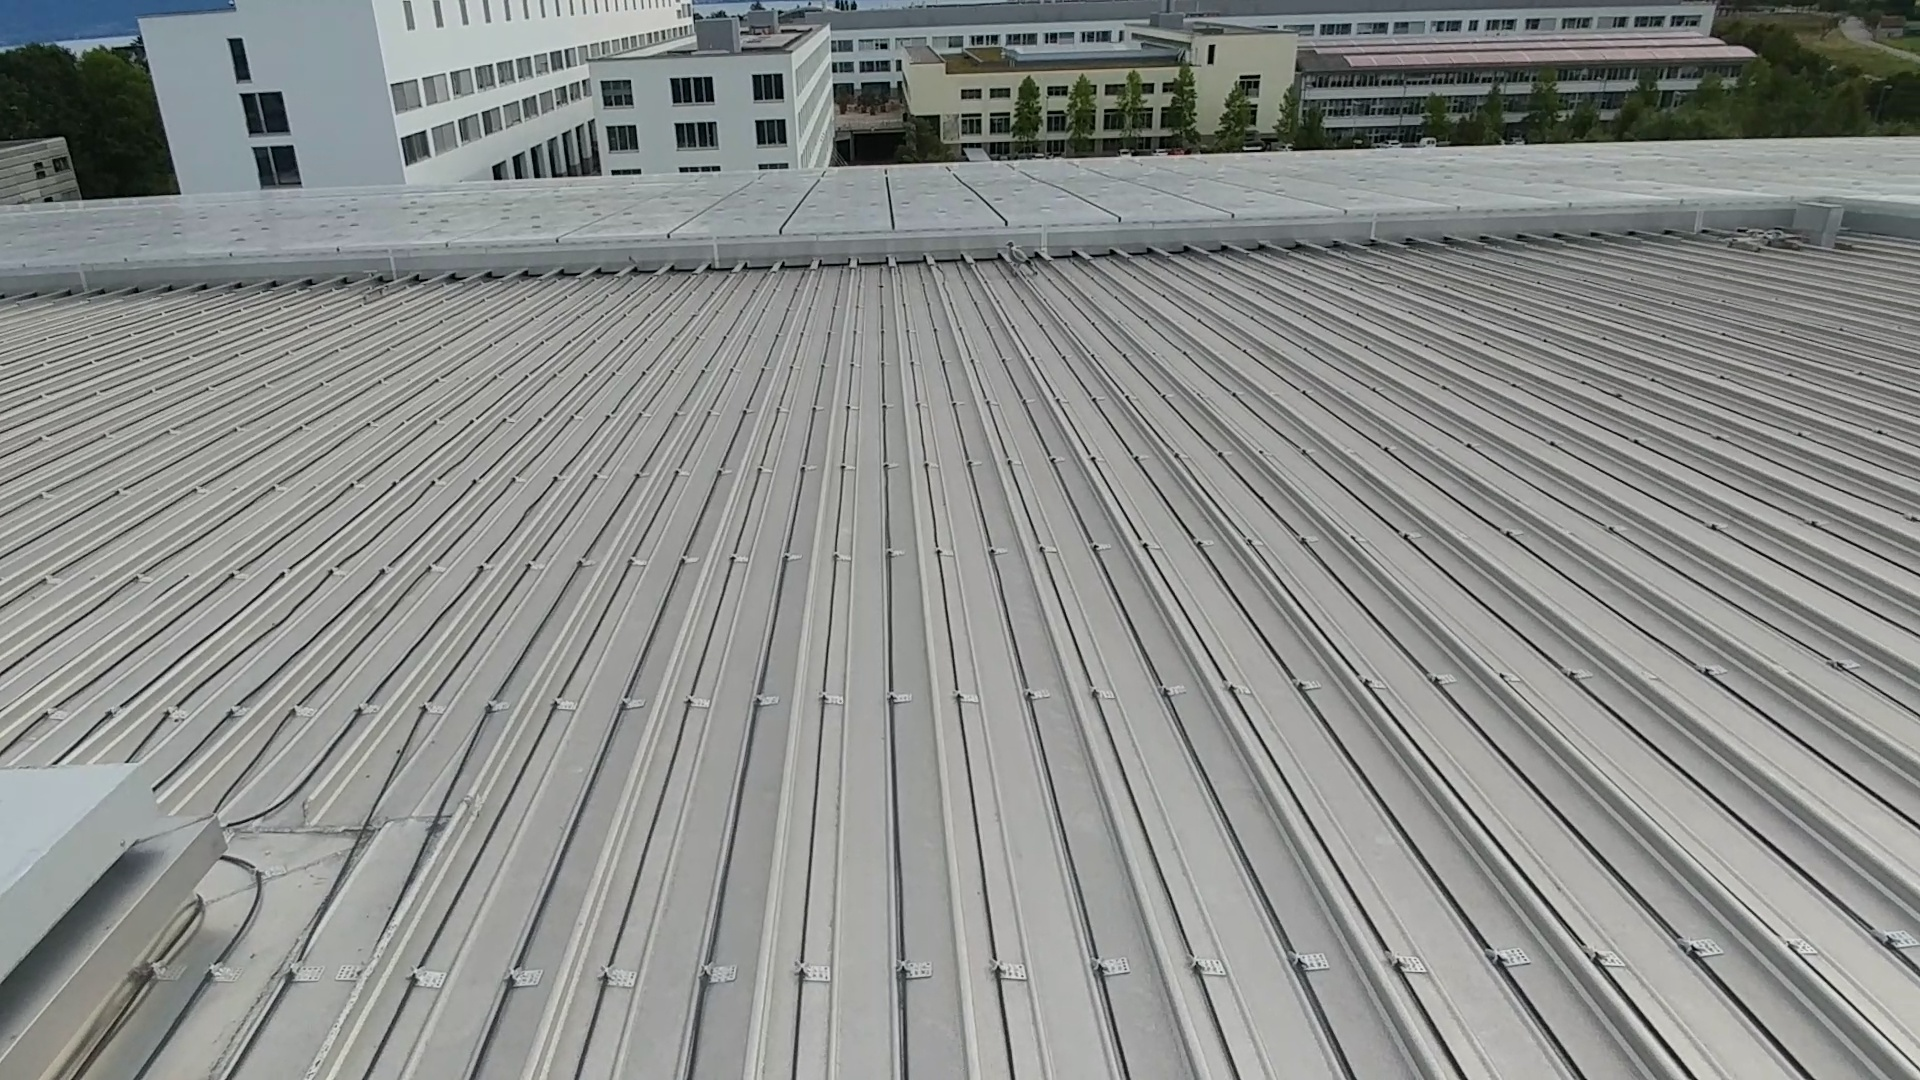Pigeon: (1002, 237, 1036, 276)
